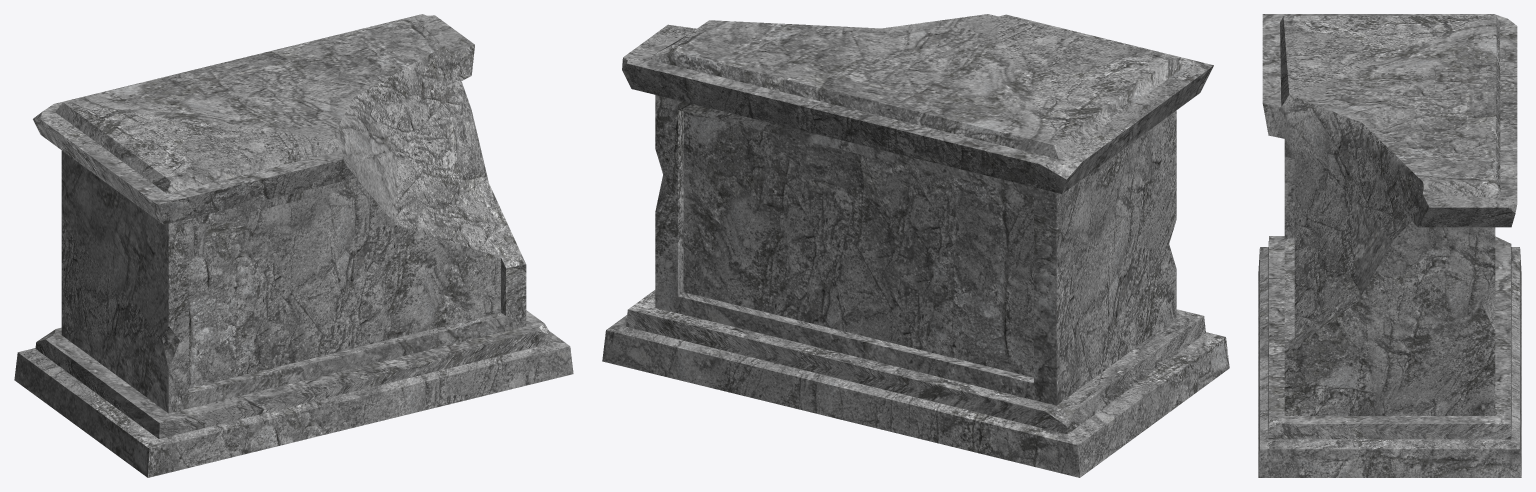
File: materials_3_pedestal_1.fbx
3 renders of one model, left to right at view 1: azimuth 30°, elevation 25°; view 2: azimuth 150°, elevation 25°; view 3: azimuth 270°, elevation 25°, orthographic. The views are drawn at different scales.
Parts seen in each view (by area): view 1: materials_3_pedestal_1; view 2: materials_3_pedestal_1; view 3: materials_3_pedestal_1.
Boxes of the visible parts, x1=… form: materials_3_pedestal_1: x1=14, y1=14, x2=573, y2=477; materials_3_pedestal_1: x1=602, y1=14, x2=1229, y2=477; materials_3_pedestal_1: x1=1258, y1=14, x2=1521, y2=477.
Size of the model in its own units: 125 by 77.86 by 67.67.
